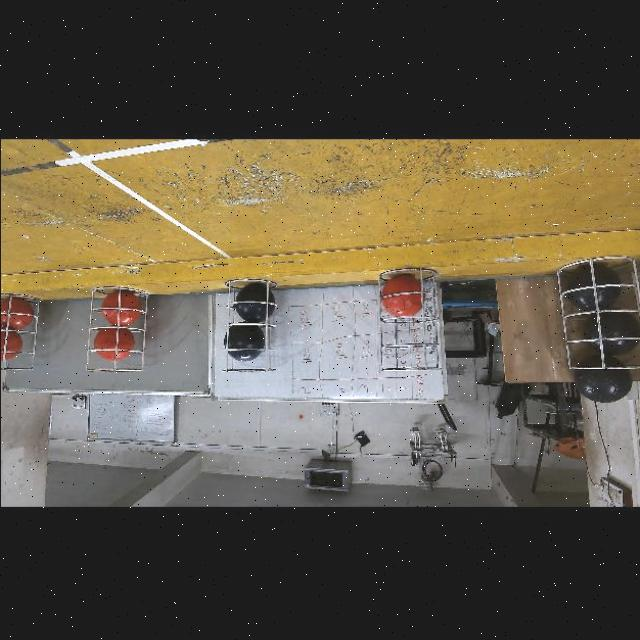P: (564, 262, 621, 310), (573, 354, 631, 401), (583, 310, 640, 355), (234, 281, 275, 322), (222, 323, 265, 360)
R: (381, 273, 420, 315), (100, 289, 141, 324), (93, 327, 134, 359), (0, 296, 32, 328), (0, 329, 22, 360)
S: (552, 254, 640, 372), (373, 268, 449, 377), (214, 283, 286, 371), (84, 292, 150, 374), (0, 294, 32, 376)
